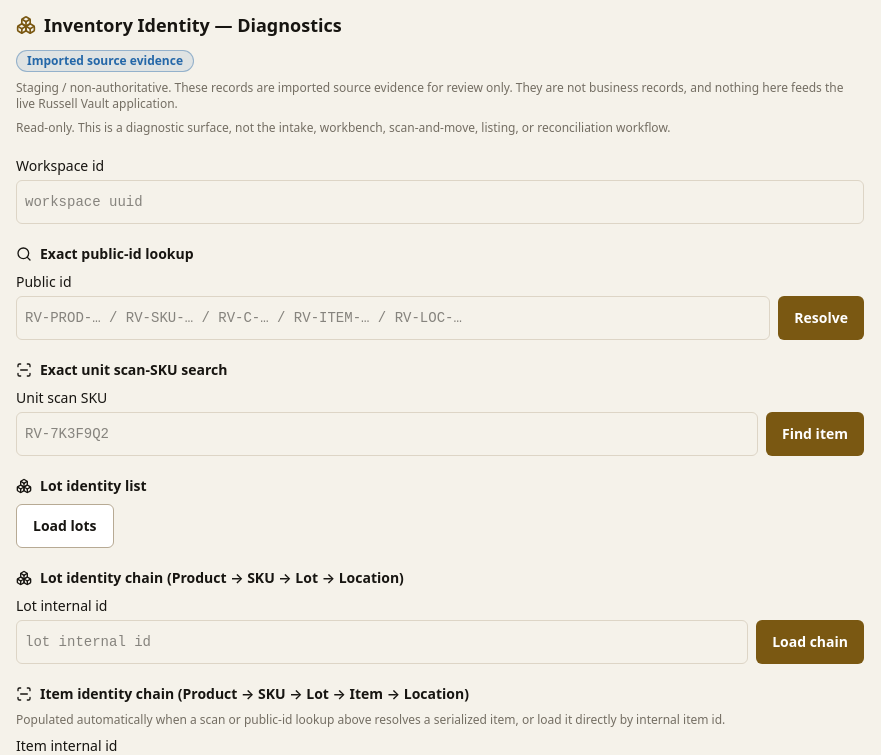
InventoryIdentity — the primitives it now uses › renders a failed lookup as a bounded error
The width and height of the screenshot is (881, 755).
Type "11111111-1111-4111-8111-111111111111" into the field labelled "Workspace id" at [440, 202], box x1=16 y1=180 x2=864 y2=224
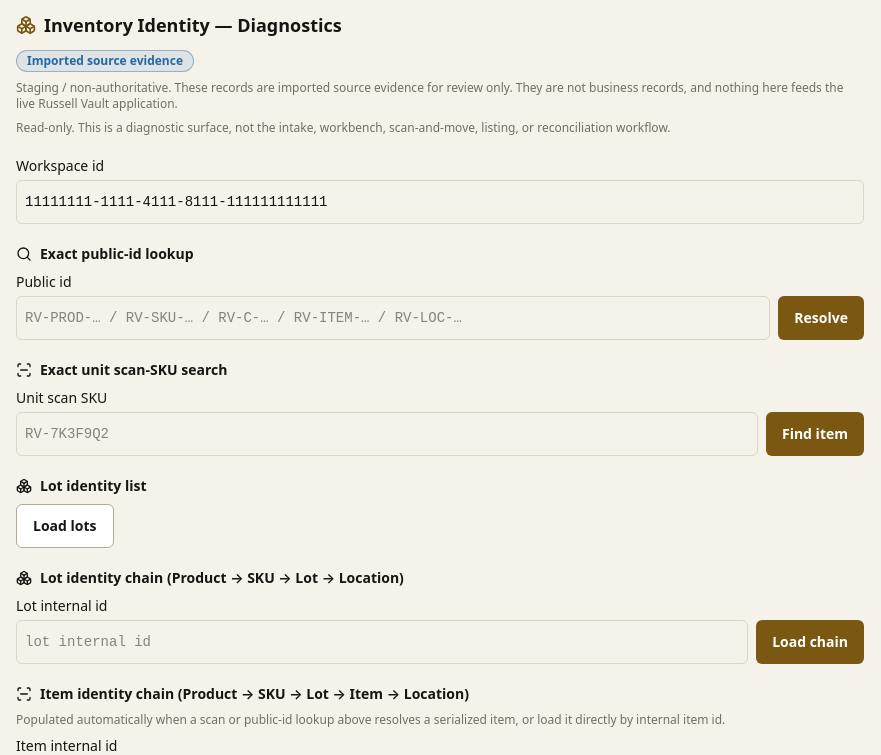
Click the button "Resolve" at [821, 318], box x1=778 y1=296 x2=864 y2=340
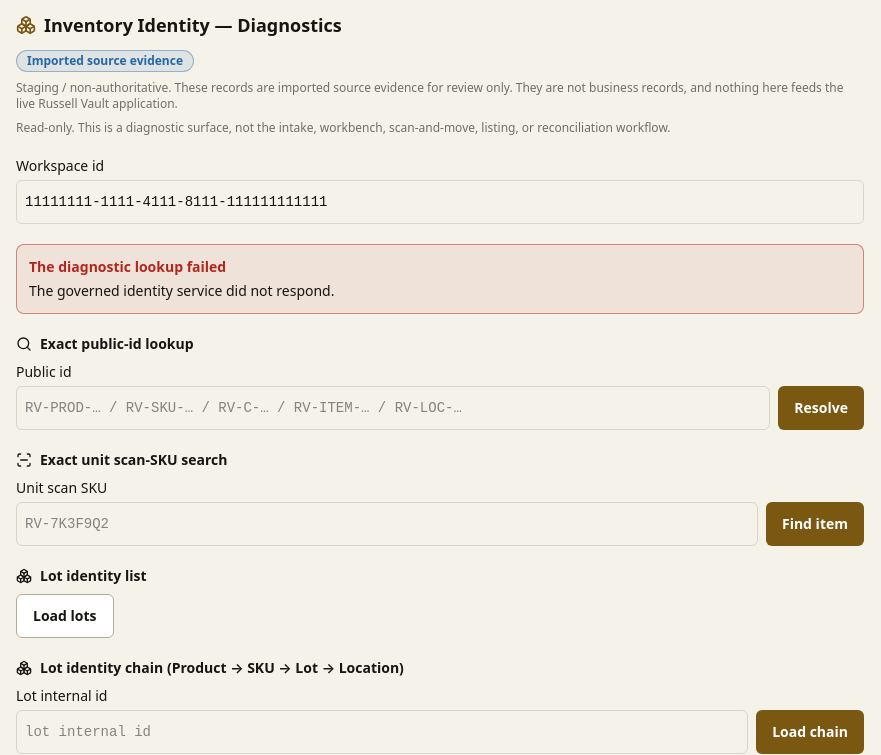
Check: the message shows "The governed identity service did not respond.", box x1=29 y1=281 x2=334 y2=300
Check: the message shows "diagnostic lookup failed", box x1=29 y1=257 x2=226 y2=276
